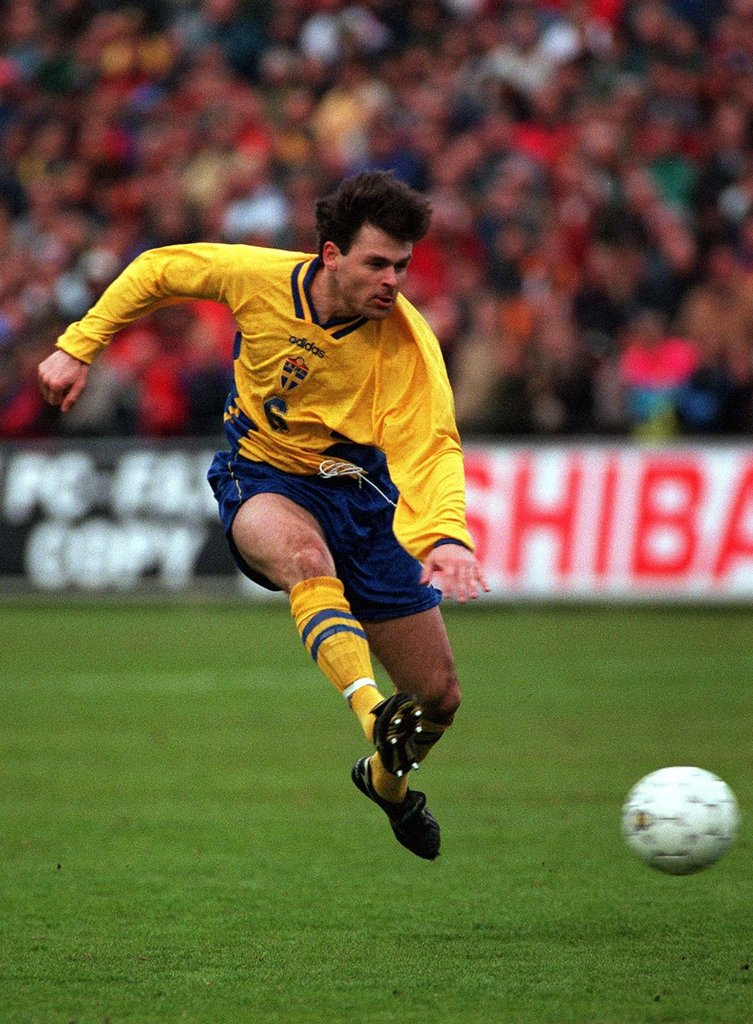person: (207, 143, 290, 238)
